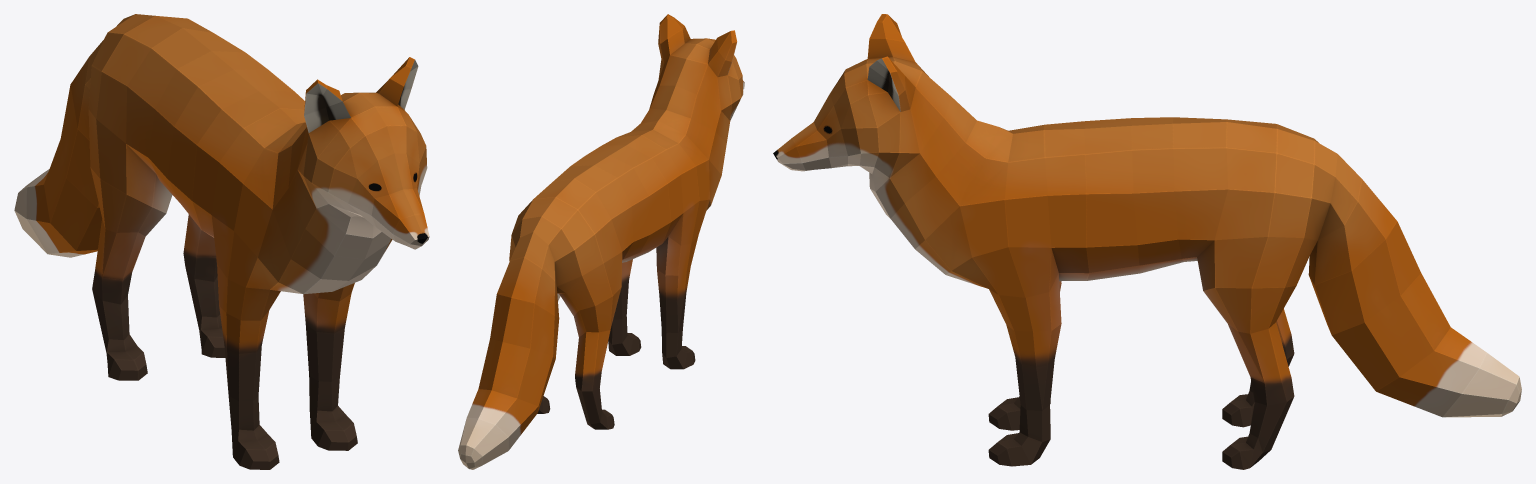
Rendered from A fox and a crane0.obj.
3 views of the same model, side by side, from view 1: azimuth 30°, elevation 25°; view 2: azimuth 150°, elevation 25°; view 3: azimuth 270°, elevation 25° (orthographic). The views are drawn at different scales.
Parts seen in each view (by area): view 1: Fox_Mesh; view 2: Fox_Mesh; view 3: Fox_Mesh.
Part boxes in pixels (x1=…): Fox_Mesh: x1=14, y1=14, x2=429, y2=469; Fox_Mesh: x1=458, y1=14, x2=744, y2=469; Fox_Mesh: x1=773, y1=14, x2=1521, y2=469.
Size of the model in its own units: 1.28 by 3.84 by 6.44.
Materials: 1 (1 with a texture image).
